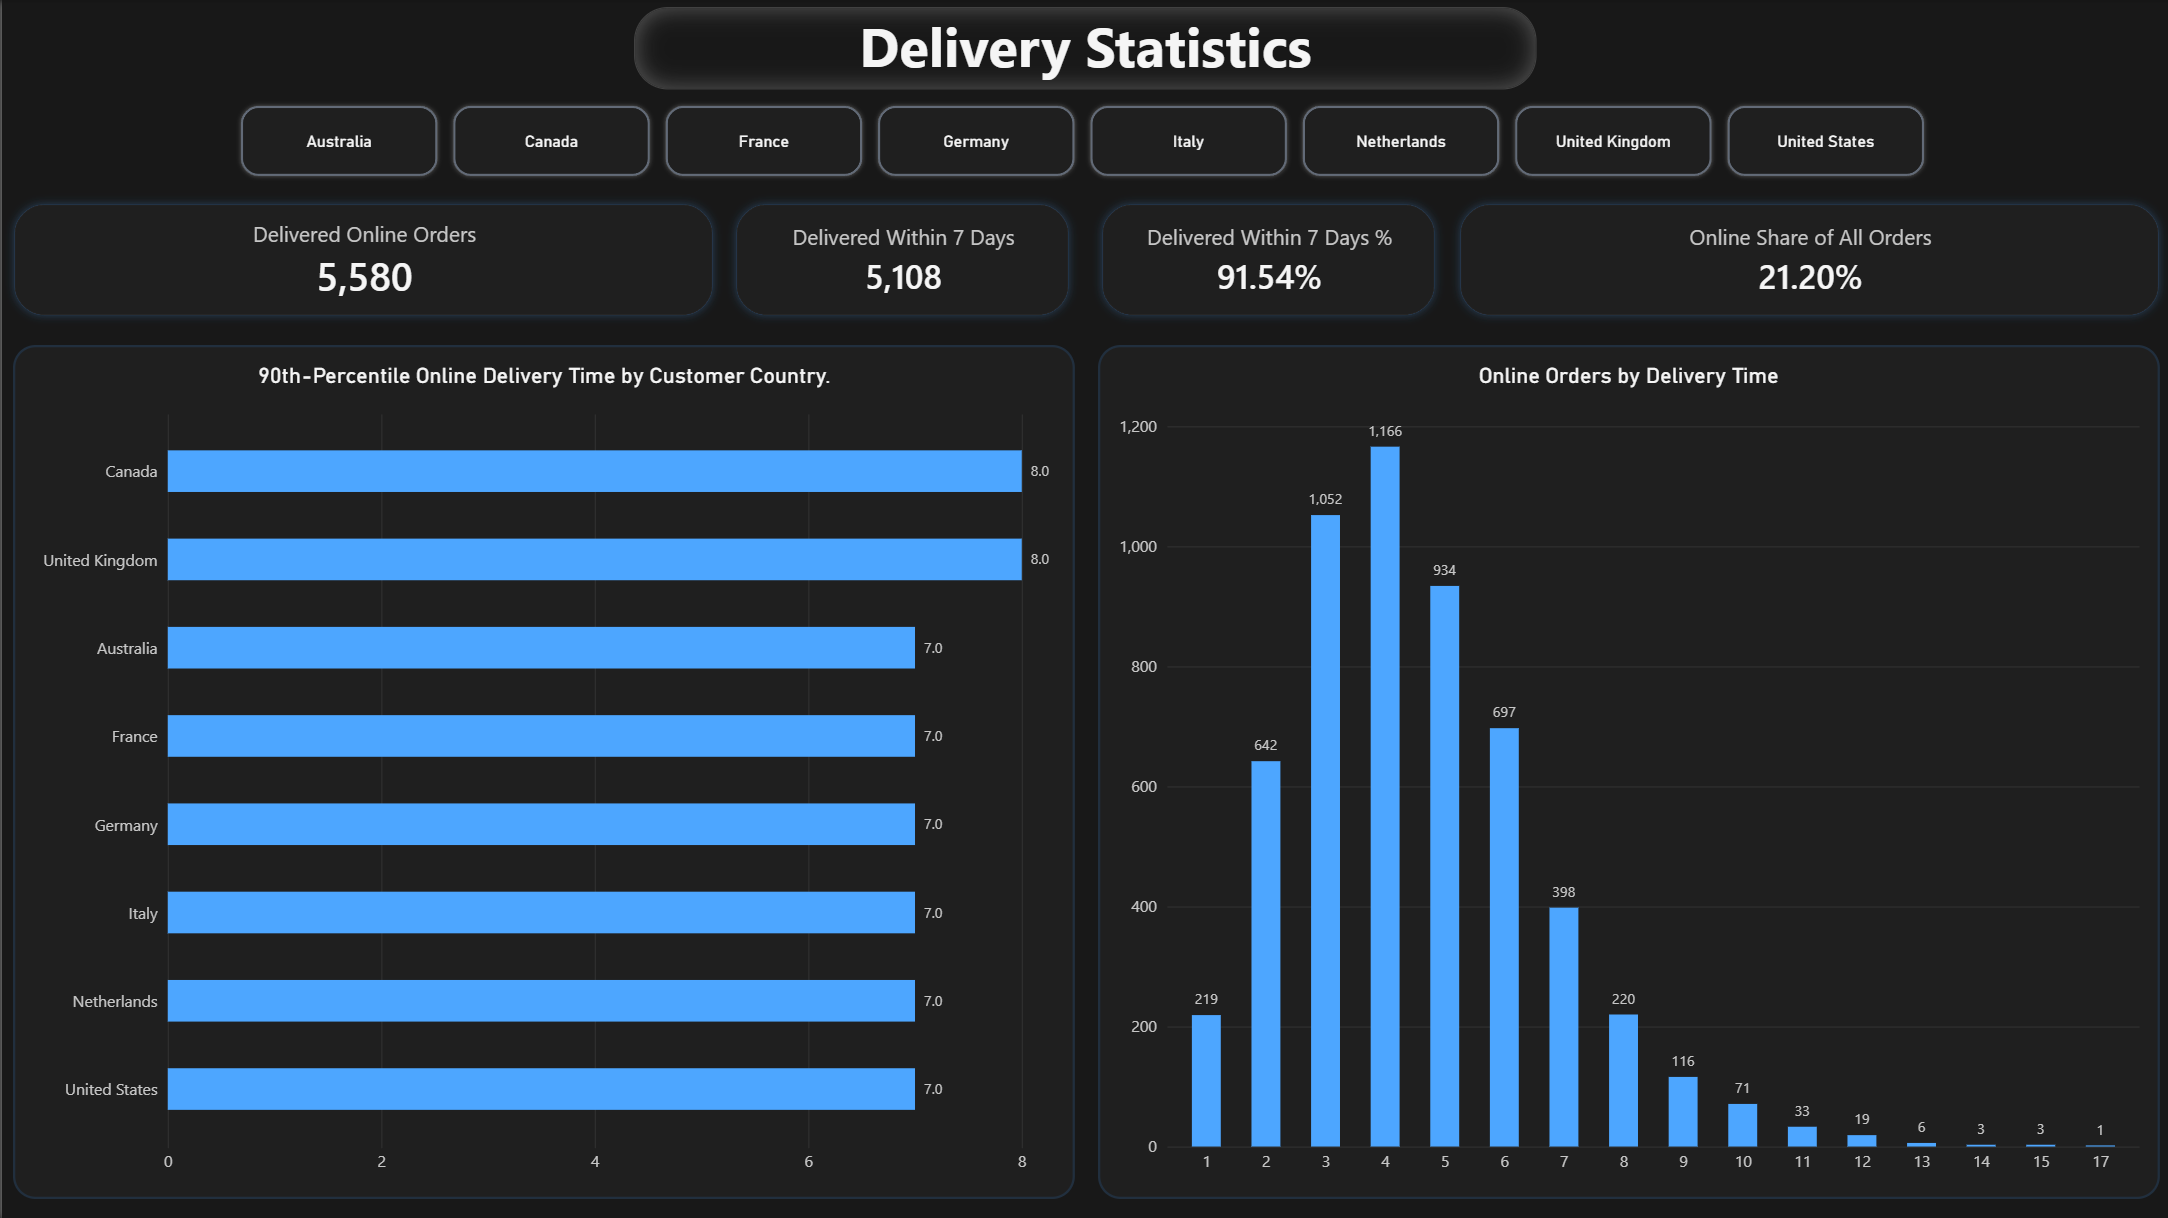

What the dashboard file says about the page in this screenshot:
{"tool":"powerbi","page":{"name":"Delivery Statistics","canvas":[1920,1080],"ordinal":3},"visuals":[{"type":"barChart","title":"90th-Percentile Online Delivery Time by Customer Country.","fields":{"Category":["P90 Delivery Days.country"],"Y":["Max(P90 Delivery Days.p90_delivery_days)"]},"box":[10,305.6,940,755.6],"z":0},{"type":"columnChart","title":"Online Orders by Delivery Time","fields":{"Category":["Orders.delivery_days"],"Y":["CountNonNull(Orders.order_number)"]},"box":[970,305.6,940,755.6],"z":1000},{"type":"textbox","box":[559.5,6.2,799.4,72.6],"z":2000},{"type":"cardVisual","fields":{"Data":["_Measures.Online Orders Count","_Measures.Delivered Within 7 Days %"]},"box":[638.7,169.8,640,120],"z":3000},{"type":"cardVisual","fields":{"Data":["_Measures.Online Orders Count"]},"box":[0,169.7,640,120],"z":4000},{"type":"cardVisual","fields":{"Data":["_Measures.Online Orders %"]},"box":[1280.3,169.8,640,120],"z":5000},{"type":"advancedSlicerVisual","title":"Select Country","fields":{"Values":["P90 Delivery Days.country"]},"box":[204.4,86.4,1510.1,76.9],"z":6000}]}

Visuals, with their boxes in screenshot pixels (x1, y1, x2, y2), scaled from the page's 1920x1080 canvas onto the 2168x1218 screenshot:
"90th-Percentile Online Delivery Time by Customer Country." barChart: l=11, t=345, r=1073, b=1197
"Online Orders by Delivery Time" columnChart: l=1095, t=345, r=2157, b=1197
textbox: l=632, t=7, r=1534, b=89
cardVisual - _Measures.Online Orders Count x _Measures.Delivered Within 7 Days %: l=721, t=191, r=1444, b=327
cardVisual - _Measures.Online Orders Count: l=0, t=191, r=723, b=327
cardVisual - _Measures.Online Orders %: l=1446, t=191, r=2167, b=327
"Select Country" advancedSlicerVisual: l=231, t=97, r=1936, b=184
